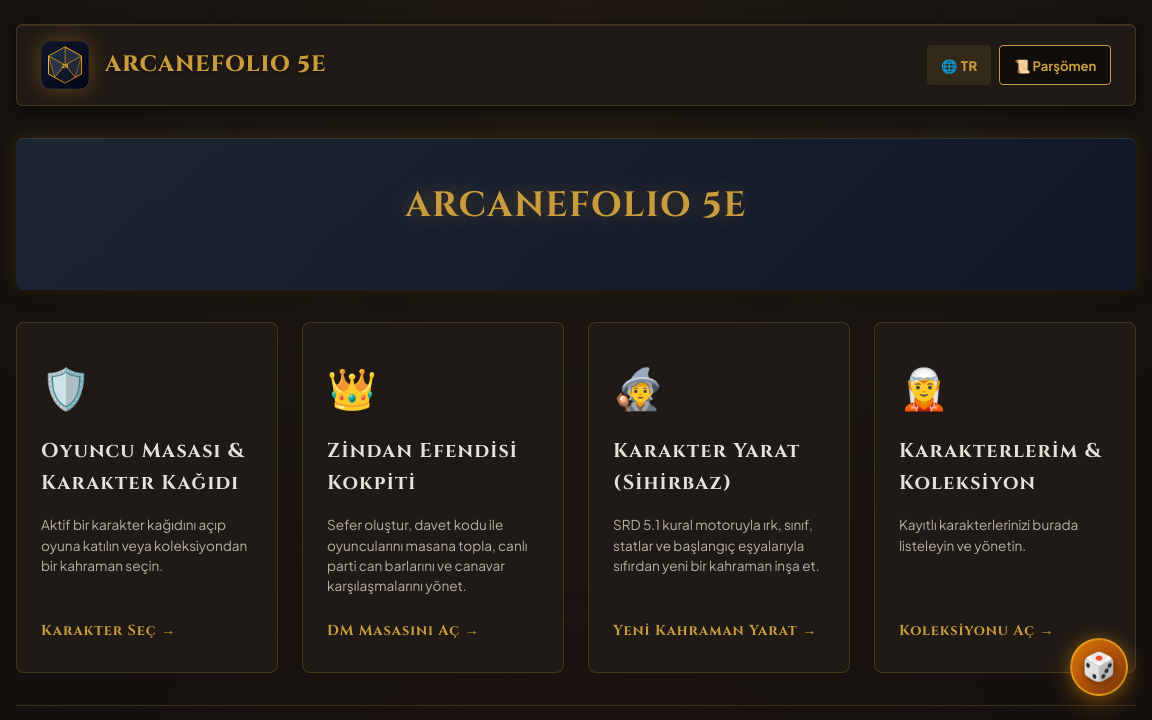
Test: Uygulama Temel İskelet ve Gezinme Birim Testleri › Dil anahtarı (TR/EN Switch) arayüz metinlerini dinamik olarak günceller
expect the button with id "hub-card-sheet" shows "Oyuncu Masası": met, box left=16, top=322, right=278, bottom=673
# Dili EN yap
Click the button with id "lang-toggle-btn" at (959, 65), box left=927, top=45, right=991, bottom=85
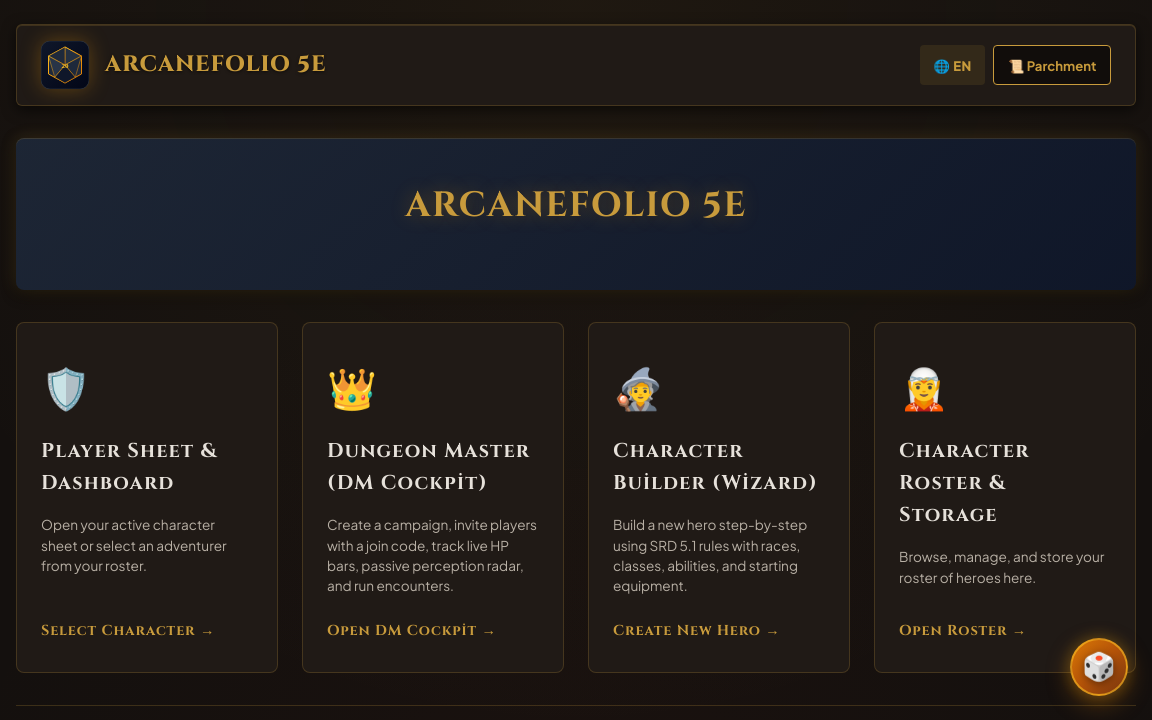
expect the button with id "lang-toggle-btn" shows "EN": met
expect the button with id "hub-card-sheet" shows "Player Sheet": met, box left=16, top=322, right=278, bottom=673
Click the button with id "lang-toggle-btn" at (953, 65), box left=920, top=45, right=986, bottom=85
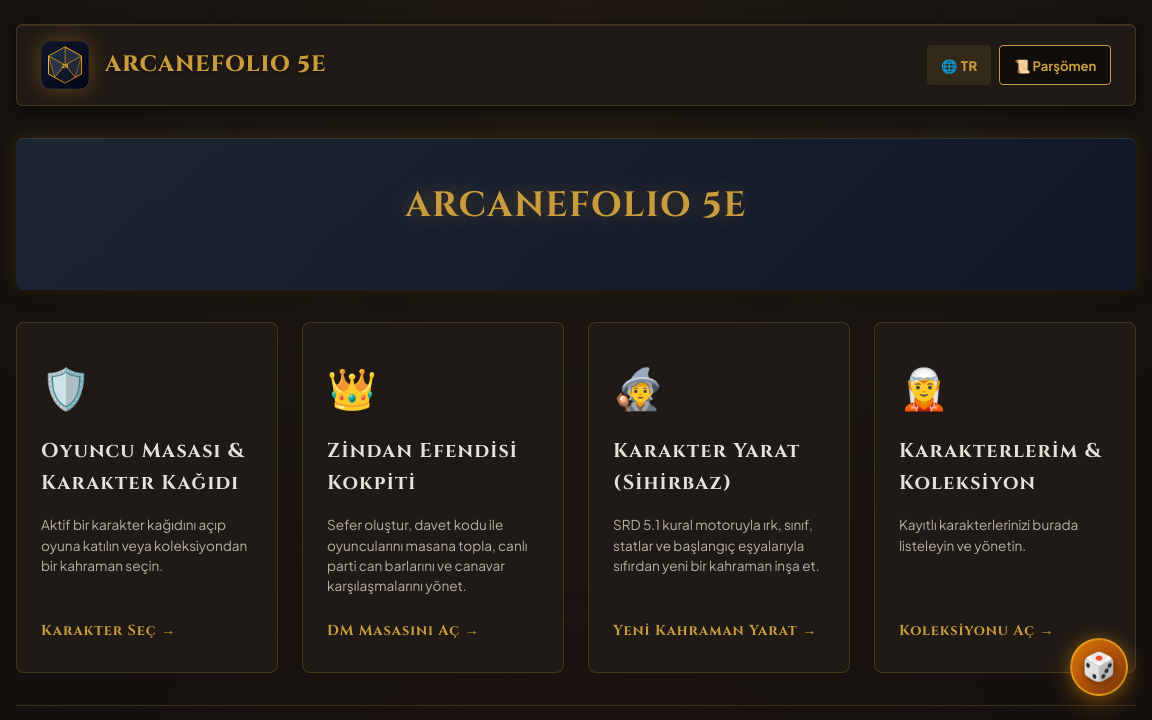
expect the button with id "lang-toggle-btn" shows "TR": met, box left=927, top=45, right=991, bottom=85
expect the button with id "hub-card-sheet" shows "Oyuncu Masası": met, box left=16, top=322, right=278, bottom=673
